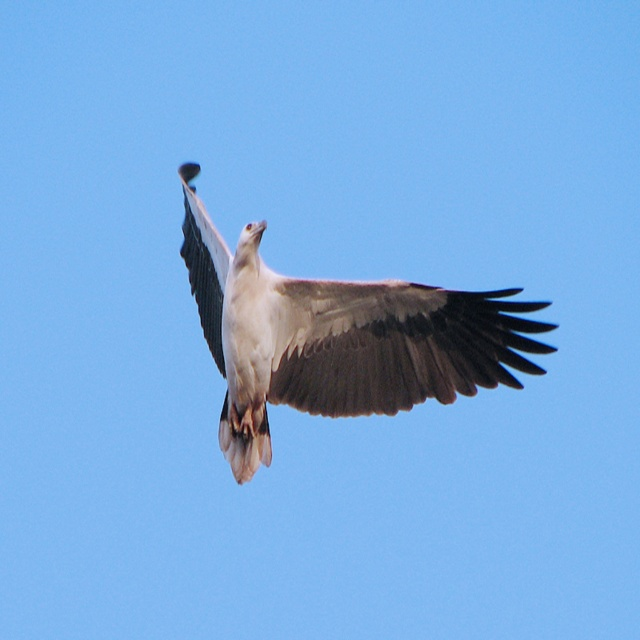Eagle: (177, 160, 558, 483)
